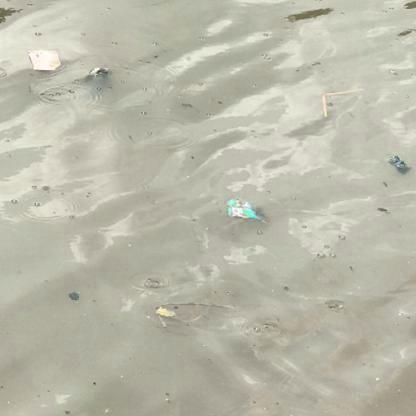Trash: (221, 198, 270, 226), (30, 48, 62, 73), (87, 60, 117, 82)
